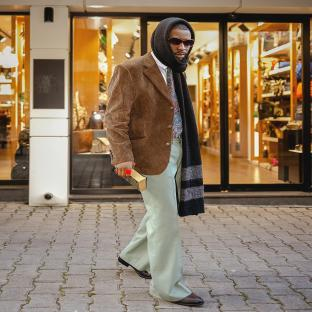Human: (104, 18, 204, 306)
